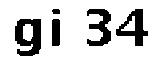3: (79, 6, 112, 52)
4: (116, 7, 151, 48)
g: (12, 13, 44, 60)
i: (47, 6, 69, 49)
